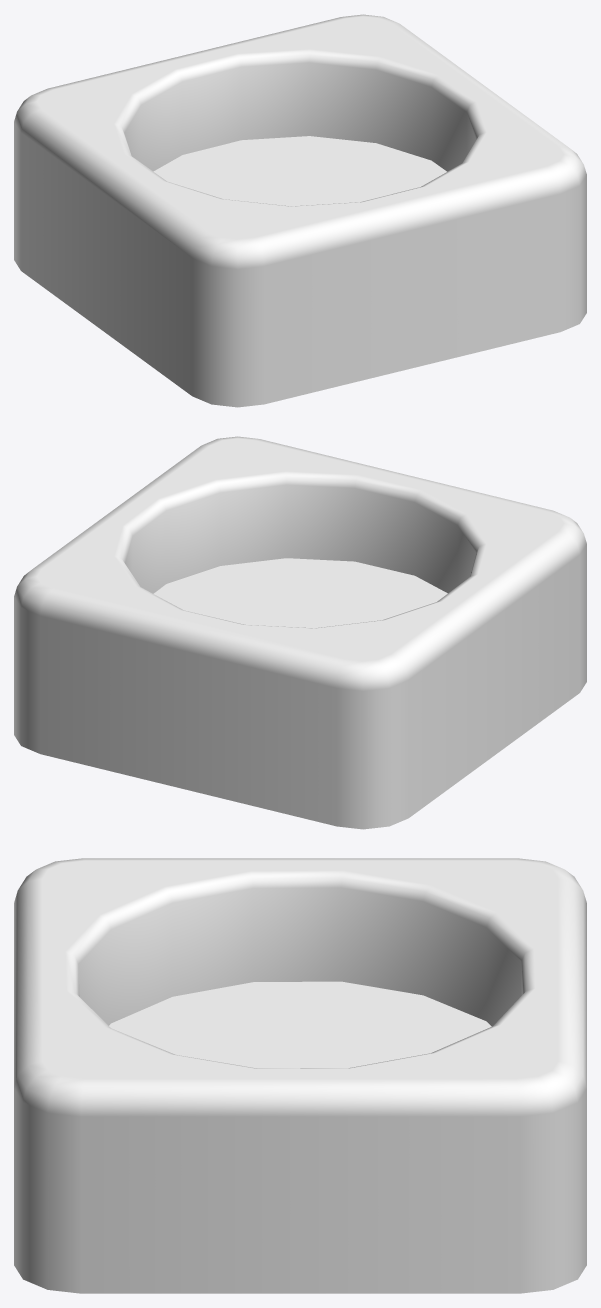
The model's file is Socket.fbx.
The picture shows the model from 3 angles, top to bottom: view 1: azimuth 30°, elevation 25°; view 2: azimuth 150°, elevation 25°; view 3: azimuth 270°, elevation 25°; orthographic projection. The views are drawn at different scales.
Parts seen in each view (by area): view 1: Socket; view 2: Socket; view 3: Socket.
Boxes of the visible parts, <box> form: Socket: <box>14,14,586,407</box>; Socket: <box>14,436,586,829</box>; Socket: <box>14,858,586,1293</box>.
Size of the model in its own units: 0.4312 by 0.1684 by 0.4312.
